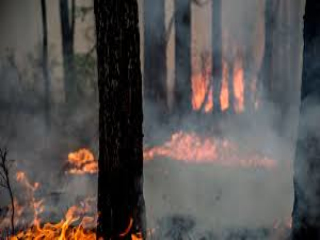fire: (146, 129, 286, 173), (3, 179, 96, 238), (189, 59, 255, 112), (58, 143, 98, 180)
